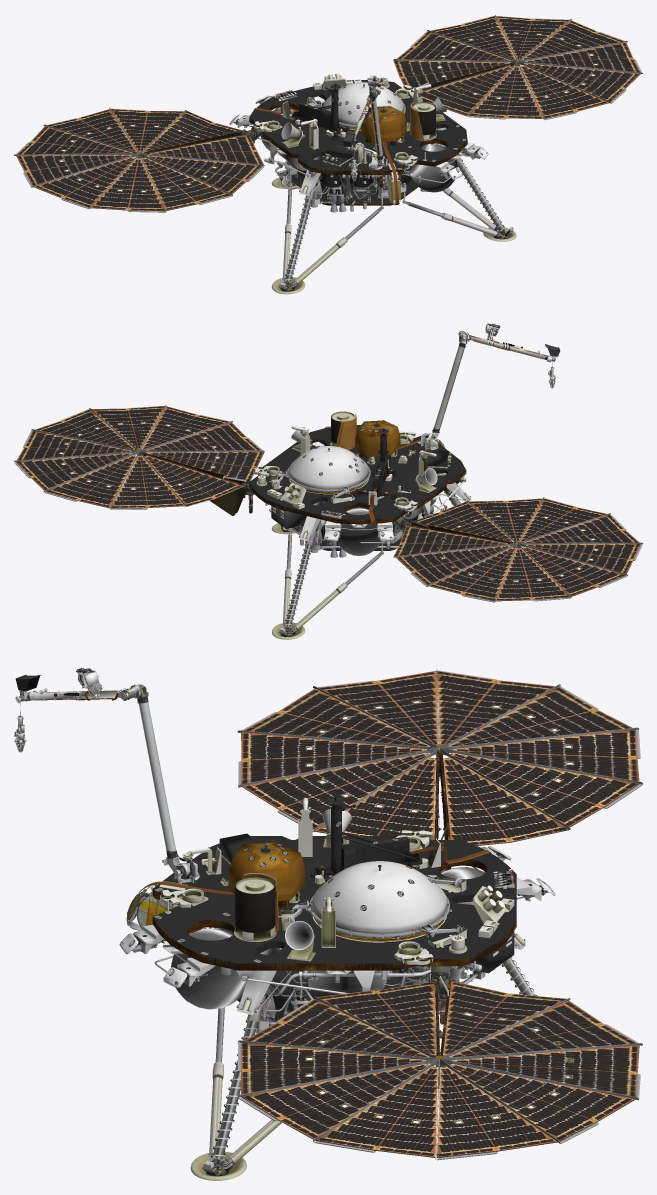
Rendered from insight.glb.
3 views of the same model, one above another, from view 1: azimuth 30°, elevation 25°; view 2: azimuth 150°, elevation 25°; view 3: azimuth 270°, elevation 25° (orthographic). The views are drawn at different scales.
Parts seen in each view (by area): view 1: deck, leg_l, leg_r, WTS, SEIS, HP3_v3d_baked, Cube.056, Cube.095, Cube.055, Cube.051, Cube.079, Cube.001 (+38 smaller); view 2: deck, WTS, leg_b, SEIS, Cube.047, Cube.083, Cube.081, Cube.078, Cube.064, Cube.085, Cube.061, Cube.049 (+39 smaller); view 3: deck, WTS, leg_r, Cube.089, Cube.091, Cube.060, Cube.059, Cube.087, HP3_v3d_baked, Cube.057, SEIS, Cube.086 (+38 smaller).
Part boxes in pixels (box(x1,y1,x2,y2)): deck: box(229, 73, 488, 212); leg_l: box(271, 178, 383, 294); leg_r: box(403, 146, 516, 241); WTS: box(313, 82, 405, 128); SEIS: box(361, 106, 406, 145); HP3_v3d_baked: box(287, 83, 351, 140); Cube.056: box(144, 157, 232, 204); Cube.095: box(468, 66, 517, 119); Cube.055: box(147, 155, 264, 181); Cube.051: box(128, 158, 165, 212); Cube.079: box(393, 60, 507, 77); Cube.001: box(33, 157, 133, 198); deck: box(245, 424, 471, 557); WTS: box(277, 446, 370, 493); leg_b: box(272, 525, 383, 639); SEIS: box(355, 420, 400, 459); Cube.047: box(523, 546, 627, 587); Cube.083: box(44, 455, 135, 501); Cube.081: box(110, 455, 147, 509); Cube.078: box(145, 455, 243, 498); Cube.064: box(519, 548, 570, 601); Cube.085: box(14, 453, 131, 478); Cube.061: box(429, 547, 513, 594); Cube.049: box(525, 543, 642, 560); deck: box(119, 830, 555, 1033); WTS: box(292, 861, 451, 939); leg_r: box(190, 985, 282, 1180); Cube.089: box(314, 1066, 435, 1152); Cube.091: box(238, 1063, 428, 1121); Cube.060: box(450, 752, 642, 808); Cube.059: box(447, 757, 569, 842); Cube.087: box(437, 1067, 497, 1160); HP3_v3d_baked: box(310, 795, 422, 885); Cube.057: box(241, 753, 428, 809); SEIS: box(228, 842, 305, 907); Cube.086: box(444, 1066, 557, 1151).
Bounding box in the file's own units: 6.14 × 2.17 × 3.33.
11 materials, 11 textured.
